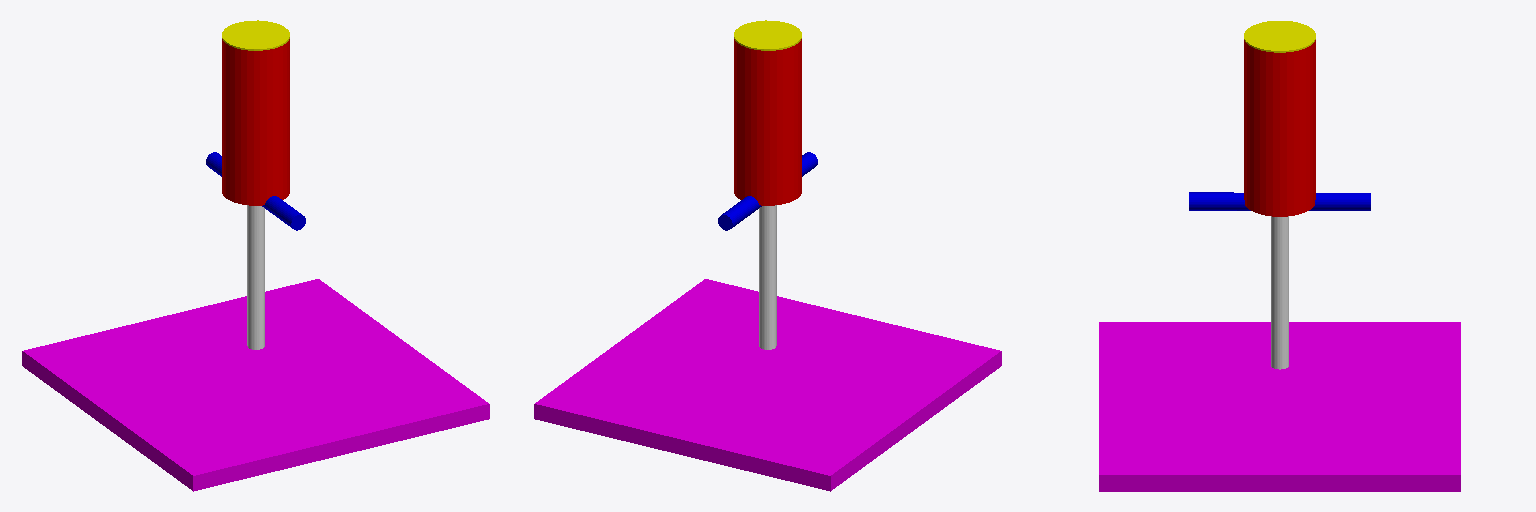
robot.urdf — screwdriver_on_the_table:
<?xml version="1.0" ?>

<robot name="screwdriver_on_the_table">
<link name="table">
    <inertial>
      <mass value="10000.0"/>
      <inertia ixx="1000.0" ixy="0.0" ixz="0.0" iyy="1000.0" iyz="0.0" izz="1000.0"/>
    </inertial>
    <visual>
      <origin rpy="0 0 0" xyz="0 0 -0.025"/>
        <geometry>
            <box size="0.2 0.2 0.01"/>
        </geometry>
           <material name="Purple1">
	 	<color rgba="0.9 0. 0.9 1.0"/>
	</material>
    </visual>
</link>

<!-- <joint name="table_screwdriver_joint" type="spherical">
    <parent link="table"/>
    <child link="screwdriver_stick"/>
    <origin rpy="0 0 0" xyz="0 0 0"/> 
    <axis xyz="0 0 1"/>
</joint> -->

<joint name="table_screwdriver_joint_1" type="revolute">
    <parent link="table"/>
    <child link="vitrual_link_1"/>
    <origin rpy="0 0 0" xyz="0 0 0"/> 
    <axis xyz="1 0 0"/>
    <limit effort="10" lower="-1.57" upper="1.57" velocity="0.5"/>
</joint>

<link name="vitrual_link_1">
    <inertial>
      <mass value="0.0000001"/>
      <inertia ixx="0.000001" ixy="0.0" ixz="0.0" iyy="0.000001" iyz="0.0" izz="0.000001"/>
    </inertial>
</link>

<joint name="table_screwdriver_joint_2" type="revolute">
    <parent link="vitrual_link_1"/>
    <child link="vitrual_link_2"/>
    <origin rpy="0 0 0" xyz="0 0 0"/> 
    <axis xyz="0 1 0"/>
    <limit effort="10" lower="-1.57" upper="1.57" velocity="0.5"/>
</joint>

<link name="vitrual_link_2">
    <inertial>
      <mass value="0.0000001"/>
      <inertia ixx="0.000001" ixy="0.0" ixz="0.0" iyy="0.000001" iyz="0.0" izz="0.000001"/>
    </inertial>
</link>

<joint name="table_screwdriver_joint_3" type="revolute">
    <parent link="vitrual_link_2"/>
    <child link="screwdriver_stick"/>
    <origin rpy="0 0 0" xyz="0 0 0"/> 
    <axis xyz="0 0 1"/>
</joint>

<link name="screwdriver_stick">
    <inertial>
      <mass value="0.05"/>
      <!-- <friction value="1.0"/> -->
      <!-- <inertia ixx="0.000041979" ixy="0.0" ixz="0.0" iyy="0.000041979" iyz="0.0" izz="0.000000625"/> -->
    </inertial>
    <visual>
        <origin rpy="0 0 0" xyz="0 0 0.05"/>
        <geometry>
            <cylinder radius="0.005" length="0.1"/>
        </geometry>
        <material name="White">
	 	    <color rgba="0.9 0.9 0.9 0.5"/>
        </material>
    </visual>
    <collision>
        <origin rpy="0 0 0" xyz="0 0 0.05"/>
        <geometry>
            <cylinder radius="0.005" length="0.1"/>
        </geometry>
    </collision>
</link>

<joint name="screwdriver_stick_body_joint" type="fixed">
    <parent link="screwdriver_stick"/>
    <child link="screwdriver_body"/>
    <origin rpy="0 0 0" xyz="0 0 0.1"/> 
    <axis xyz="0 0 1"/>
</joint>

<link name="screwdriver_body">
    <inertial>
      <mass value="0.3"/>
      <!-- <inertia ixx="0.00019667" ixy="0.0" ixz="0.0" iyy="0.00019667" iyz="0.0" izz="0.00006"/> -->
    </inertial>
    <visual>
        <origin rpy="0 0 0" xyz="0 0 0.05"/>
        <geometry>
            <!-- <cylinder radius="0.02" length="0.1"/> -->
            <cylinder radius="0.02" length="0.1"/>
        </geometry>
        <material name="Red1">
	 	    <color rgba="0.9 0. 0. 0.5"/>
        </material>
    </visual>
    <collision>
        <origin rpy="0 0 0" xyz="0 0 0.05"/>
        <geometry>
            <!-- <cylinder radius="0.02" length="0.1"/> -->
            <cylinder radius="0.02" length="0.1"/>
        </geometry>
    </collision>
</link>

<joint name="screwdriver_body_cap_joint" type="revolute">
    <parent link="screwdriver_body"/>
    <child link="screwdriver_cap"/>
    <origin rpy="0 0 0" xyz="0 0 0.1"/> 
    <axis xyz="0 0 1"/>
</joint>

<link name="screwdriver_cap">
    <inertial>
      <mass value="0.005"/>
      <!-- <inertia ixx="0.00001" ixy="0.0" ixz="0.0" iyy="0.000005" iyz="0.0" izz="0.000005"/> -->
    </inertial>
    <visual>
        <origin rpy="0 0 0" xyz="0 0 0.0005"/>
        <geometry>
            <!-- <cylinder radius="0.02" length="0.001"/> -->
            <cylinder radius="0.02" length="0.001"/>
        </geometry>
        <material name="Yellow">
	 	    <color rgba="0.9 0.9 0. 1.0"/>
        </material>
    </visual>
    <collision>
        <origin rpy="0 0 0" xyz="0 0 0.0005"/>
        <geometry>
            <!-- <cylinder radius="0.02" length="0.001"/> -->
            <cylinder radius="0.02" length="0.001"/>
        </geometry>
    </collision>
</link>

<joint name="screwdriver_body_marker_joint" type="fixed">
    <parent link="screwdriver_body"/>
    <child link="marker"/>
    <origin rpy="0 0 0" xyz="0 0 0"/> 
    <axis xyz="0 0 1"/>
</joint>

<link name="marker">
    <inertial>
      <mass value="0.00001"/>
      <!-- <inertia ixx="0.0" ixy="0.0" ixz="0.0" iyy="0.0" iyz="0.0" izz="0.0"/> -->
    </inertial>
    <visual>
        <origin rpy="1.57 0 0" xyz="0 0 0"/>
        <geometry>
            <cylinder radius="0.005" length="0.1"/>
        </geometry>
        <material name="Blue">
	 	    <color rgba="0 0 0.9 1.0"/>
        </material>
    </visual>
</link>

</robot>

--- Facts derived from the render (not from the file) ---
3 views of the same robot in one strip: view 1: azimuth 30°, elevation 25°; view 2: azimuth 150°, elevation 25°; view 3: azimuth 270°, elevation 25° (orthographic).
Model screwdriver_on_the_table with 7 links and 6 joints (4 revolute, 2 fixed), rooted at table, posed all joints at 0.
Visible links, largest first — view 1: table, screwdriver_body, screwdriver_stick, screwdriver_cap, marker; view 2: table, screwdriver_body, screwdriver_stick, screwdriver_cap, marker; view 3: table, screwdriver_body, screwdriver_stick, marker, screwdriver_cap.
Boxes of the visible links, left/top/right/bottom form: table: left=22, top=279, right=489, bottom=491; screwdriver_body: left=222, top=39, right=289, bottom=205; screwdriver_stick: left=247, top=205, right=264, bottom=349; screwdriver_cap: left=222, top=20, right=289, bottom=50; marker: left=206, top=152, right=305, bottom=230; table: left=534, top=279, right=1001, bottom=491; screwdriver_body: left=734, top=39, right=801, bottom=205; screwdriver_stick: left=759, top=205, right=776, bottom=349; screwdriver_cap: left=734, top=20, right=801, bottom=50; marker: left=718, top=152, right=817, bottom=230; table: left=1099, top=322, right=1460, bottom=491; screwdriver_body: left=1244, top=40, right=1315, bottom=216; screwdriver_stick: left=1271, top=216, right=1288, bottom=369; marker: left=1189, top=192, right=1370, bottom=210; screwdriver_cap: left=1244, top=21, right=1315, bottom=52.
Bounding box of the posed robot: 0.2 × 0.2 × 0.231 m (x, y, z).
Geometry: primitives only (box / cylinder / sphere), no mesh files.